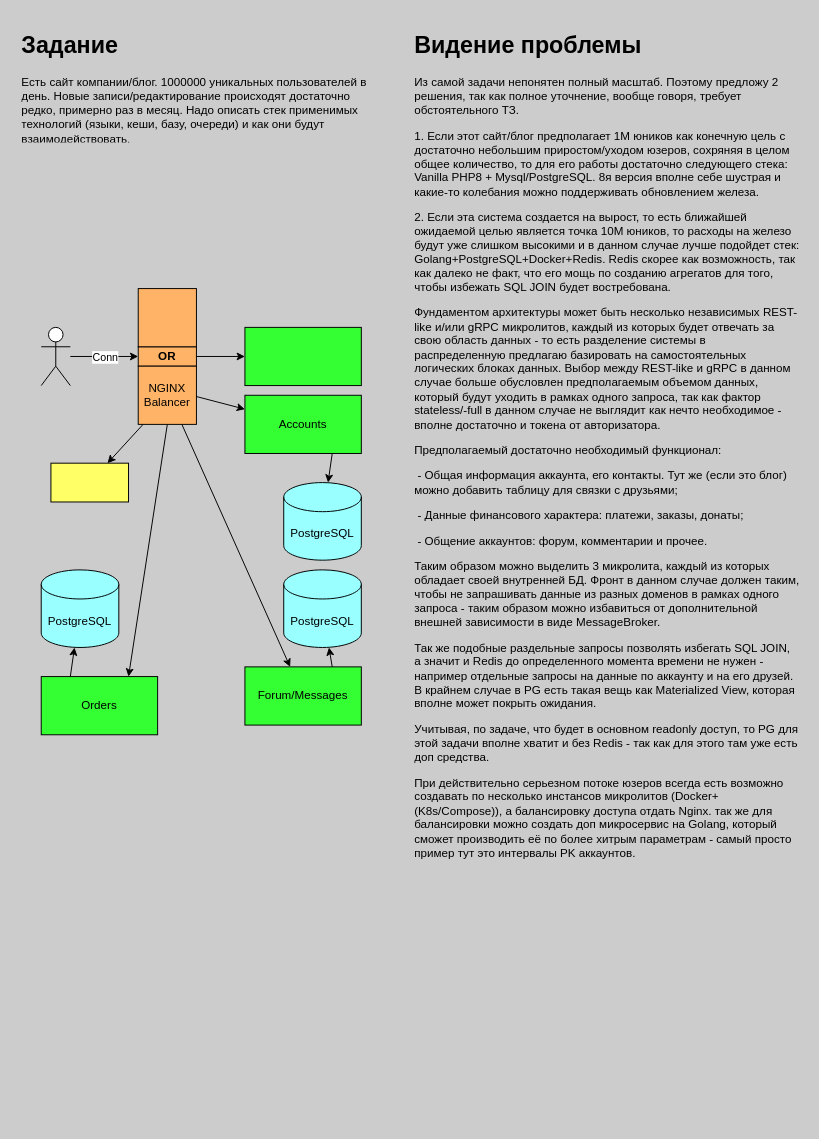
Some shapes in this 819 by 1139 pixel diagram are drawn without their labels. The centre of each missing label's shape, as x and y in pixels:
"Actor" belongs at pixel 55 356.
"Authentification" belongs at pixel 302 356.
"Custom Golang Balancer" belongs at pixel 166 317.
"WebDAV Static data" belongs at pixel 89 482.
